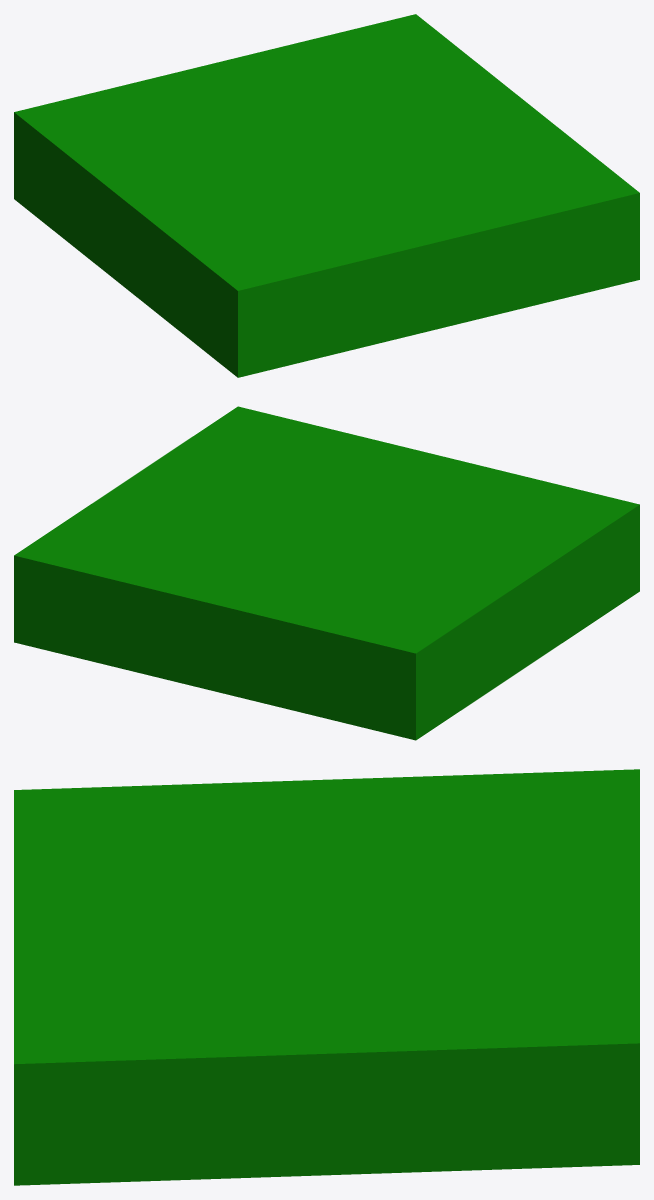
File: Verde6.fbx
3 renders of one model, top to bottom at view 1: azimuth 30°, elevation 25°; view 2: azimuth 150°, elevation 25°; view 3: azimuth 270°, elevation 25°, orthographic. The views are drawn at different scales.
Visible parts, largest first — view 1: 10_Verde; view 2: 10_Verde; view 3: 10_Verde.
Part boxes in pixels (bbox=[...]): 10_Verde: bbox=[14, 14, 639, 377]; 10_Verde: bbox=[14, 406, 639, 740]; 10_Verde: bbox=[14, 769, 639, 1185].
Bounding box in the file's own units: 2.1 × 0.5086 × 2.03.
